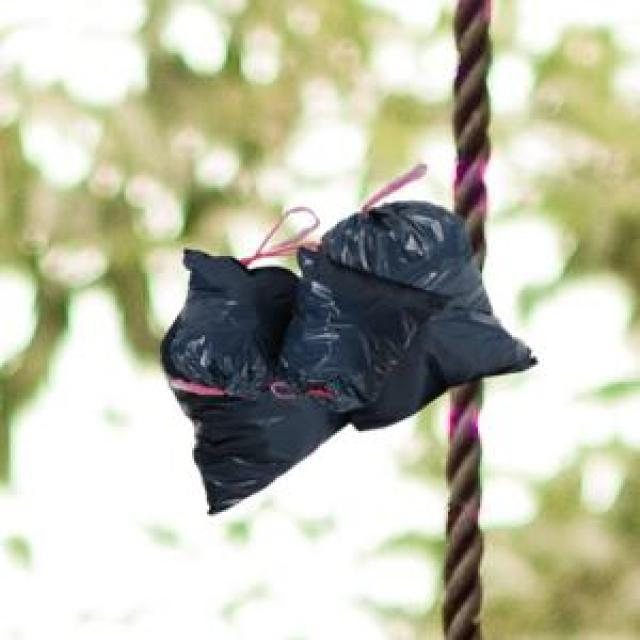Vinyl: (161, 201, 535, 512)
